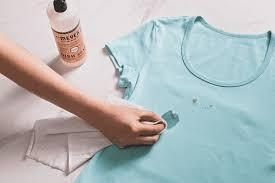oil: (164, 109, 183, 127), (205, 103, 214, 110), (191, 96, 199, 103)
